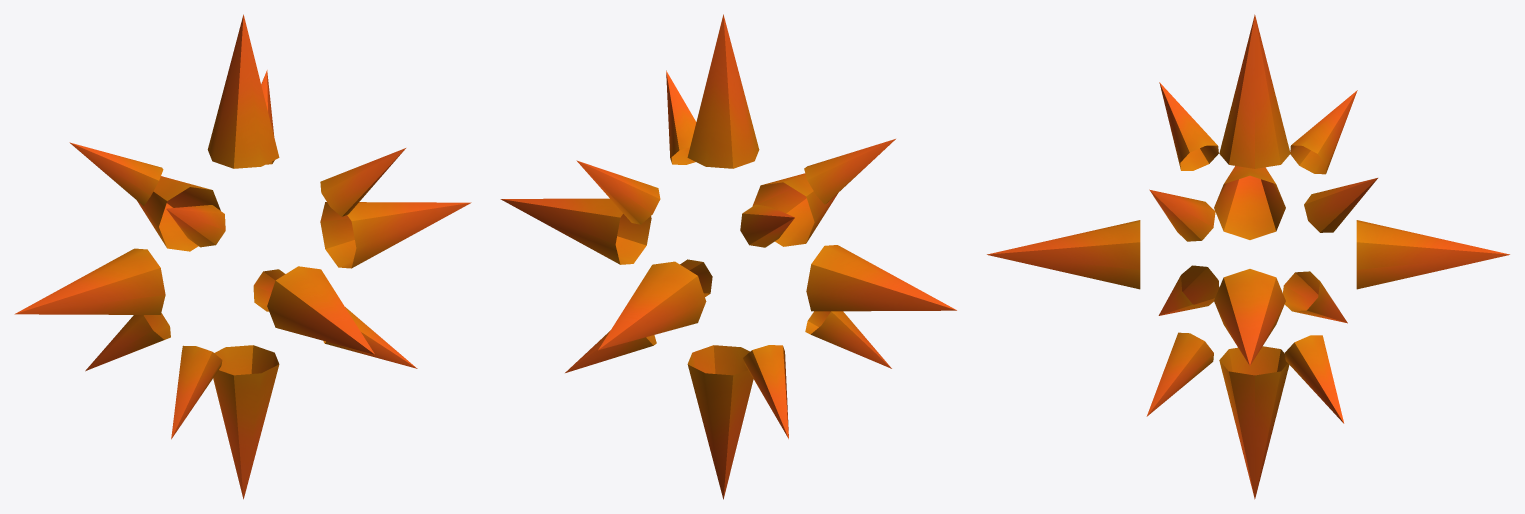
Rendered from Bogue_piques (1).FBX.
3 views of the same model, side by side, from view 1: azimuth 30°, elevation 25°; view 2: azimuth 150°, elevation 25°; view 3: azimuth 270°, elevation 25° (orthographic).
Visible parts, largest first — view 1: Bogue_piques; view 2: Bogue_piques; view 3: Bogue_piques.
Part boxes in pixels (bbox=[...]): Bogue_piques: bbox=[14, 14, 471, 499]; Bogue_piques: bbox=[500, 14, 956, 499]; Bogue_piques: bbox=[987, 14, 1509, 499].
Size of the model in its own units: 0.3441 by 0.349 by 0.3416.
